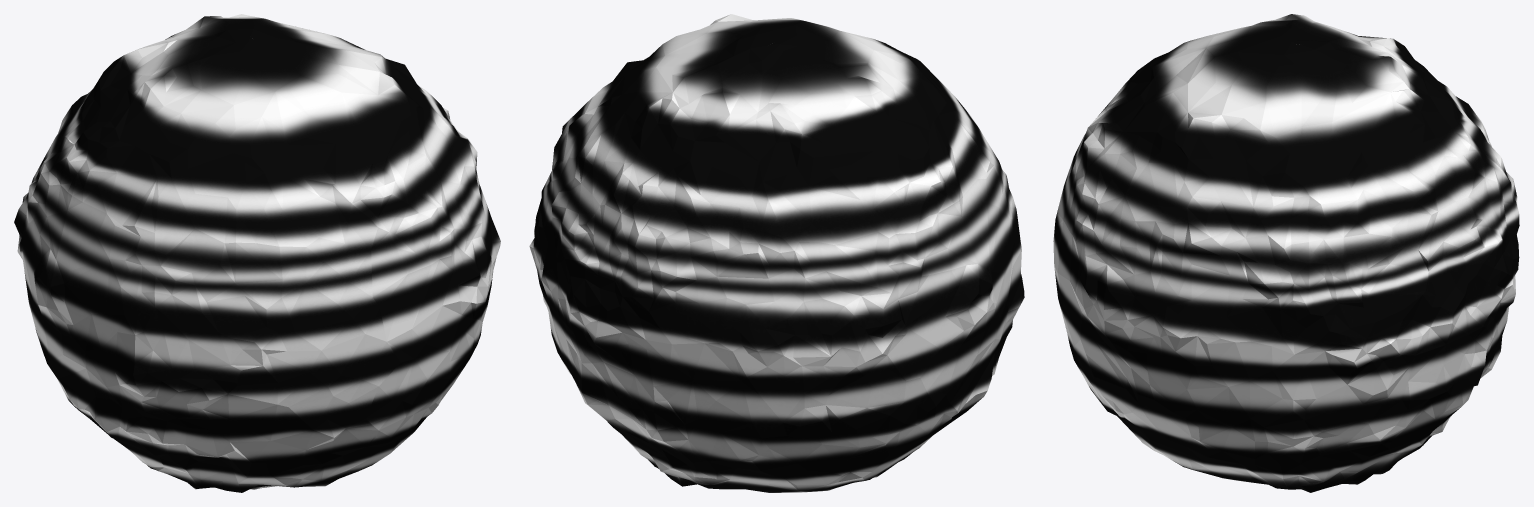
File: SM_Env_Planet_07.fbx
The picture shows the model from 3 angles, left to right: view 1: azimuth 30°, elevation 25°; view 2: azimuth 150°, elevation 25°; view 3: azimuth 270°, elevation 25°; orthographic projection. The views are drawn at different scales.
Visible parts, largest first — view 1: SM_Env_Planet_07_LOD0; view 2: SM_Env_Planet_07_LOD0; view 3: SM_Env_Planet_07_LOD0.
Boxes of the visible parts, x1,y1,x2,y2 form: SM_Env_Planet_07_LOD0: (14, 14, 500, 492); SM_Env_Planet_07_LOD0: (529, 14, 1024, 492); SM_Env_Planet_07_LOD0: (1053, 14, 1519, 492).
Size of the model in its own units: 41851 by 42680 by 42284.
Materials: 1 (1 with a texture image).
